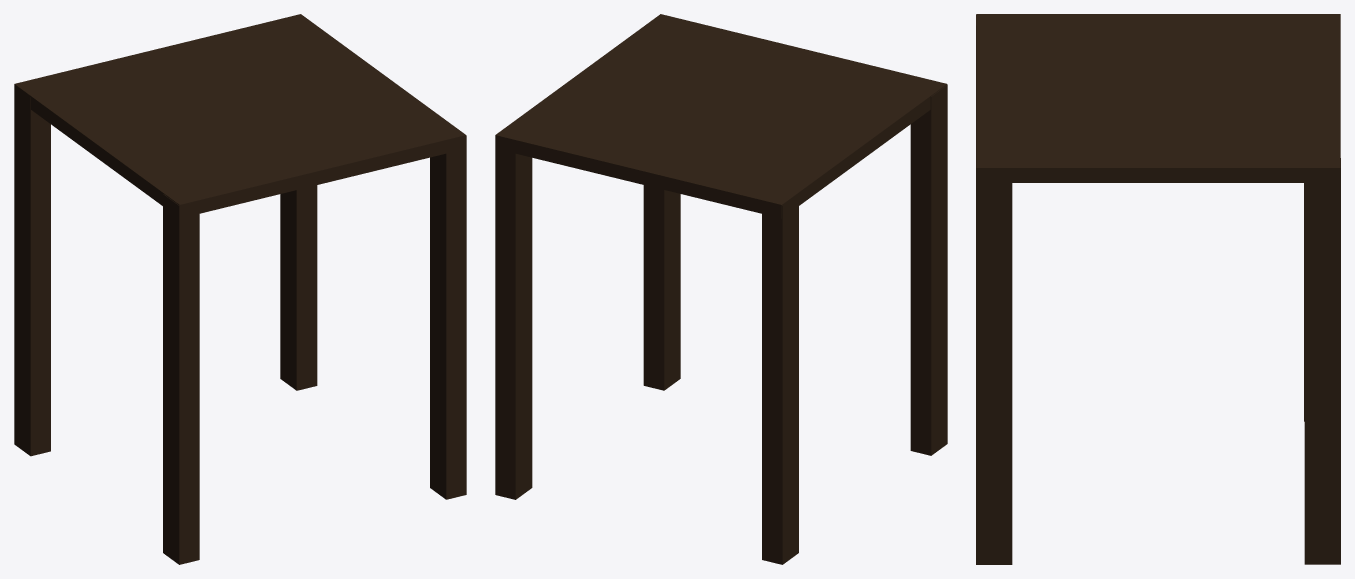
File: desk_exportFile.fbx
3 renders of one model, left to right at view 1: azimuth 30°, elevation 25°; view 2: azimuth 150°, elevation 25°; view 3: azimuth 270°, elevation 25°, orthographic. The views are drawn at different scales.
Visible parts, largest first — view 1: Desk; view 2: Desk; view 3: Desk.
Part boxes in pixels (left/top/right/bottom): Desk: left=14, top=14, right=466, bottom=564; Desk: left=495, top=14, right=947, bottom=564; Desk: left=976, top=14, right=1340, bottom=564.
Bounding box in the file's own units: 95.2 × 114 × 94.92.
